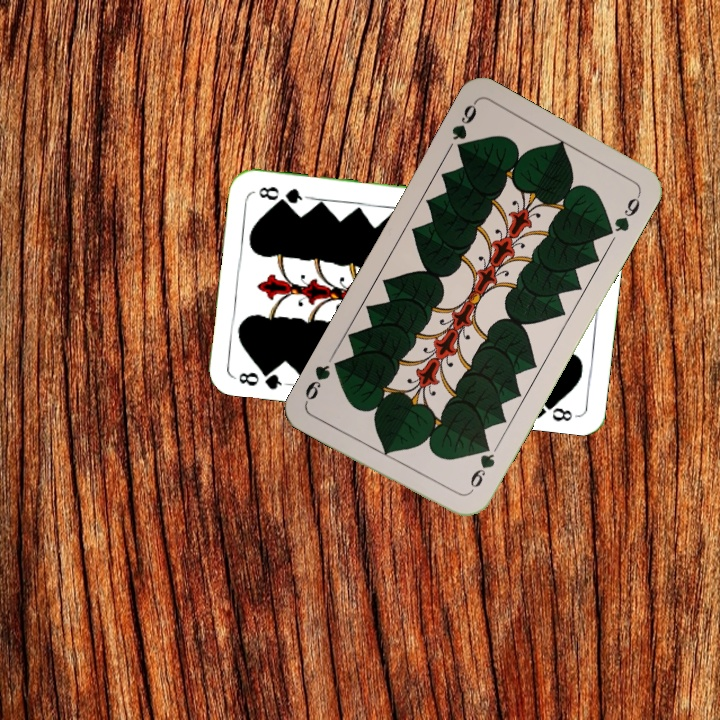G8: (231, 363, 291, 392)
G9: (463, 439, 498, 496), (447, 98, 480, 157)
